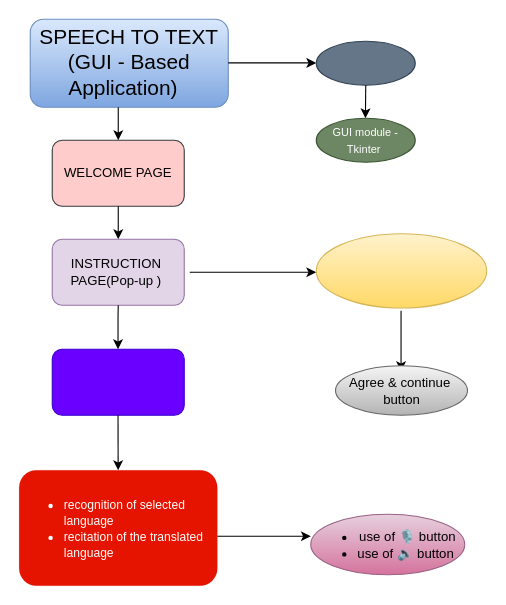
Image size: 506x605. Some labels were removed from this diagram. Here are the shapes that lost their labels. From the top down, the centre of each, then its label:
the point at 365,62: Python based
the point at 401,270: check box for the user to read the information carefully
the point at 117,381: Drop down box to select any language
